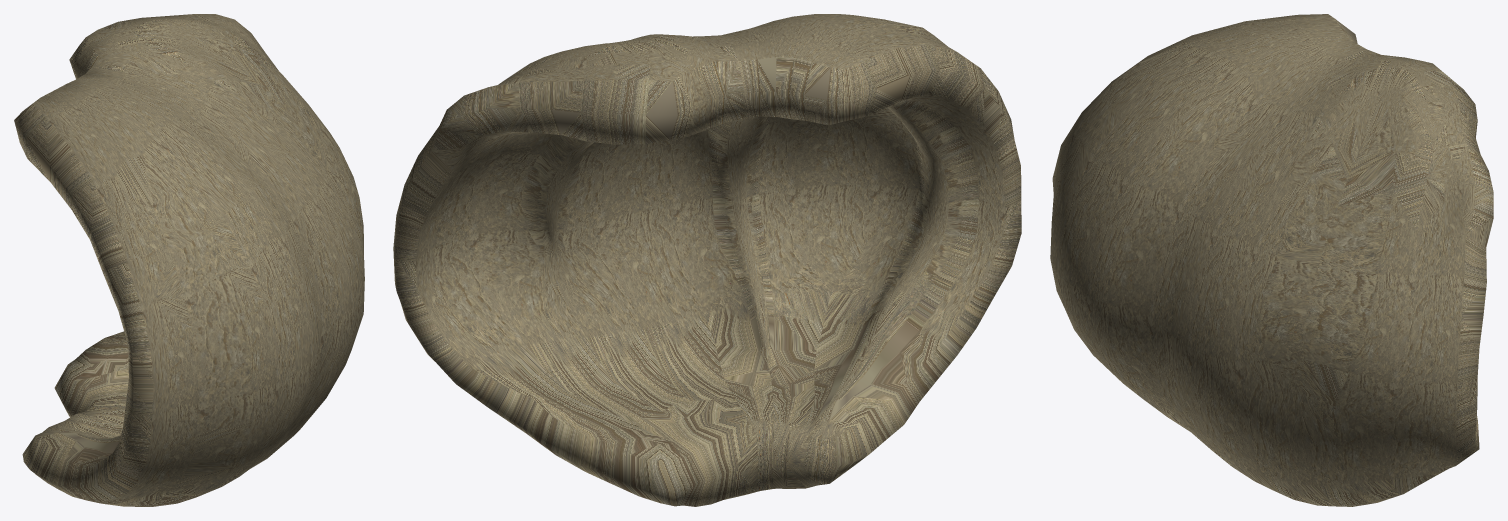
The model's file is saltmine_concave.dae.
The picture shows the model from 3 angles, left to right: view 1: azimuth 30°, elevation 25°; view 2: azimuth 150°, elevation 25°; view 3: azimuth 270°, elevation 25°; orthographic projection. The views are drawn at different scales.
Visible parts, largest first — view 1: concave_ribbed; view 2: concave_ribbed; view 3: concave_ribbed.
Boxes of the visible parts, left/top/right/bottom form: concave_ribbed: left=14, top=14, right=364, bottom=506; concave_ribbed: left=393, top=14, right=1021, bottom=506; concave_ribbed: left=1050, top=14, right=1493, bottom=506.
Size of the model in its own units: 8.25 by 8.77 by 8.33.
